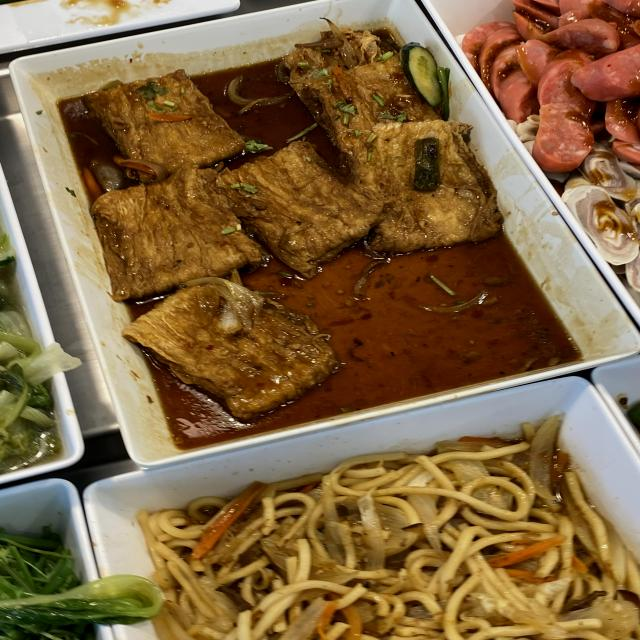bean bag: (138, 98, 428, 354)
